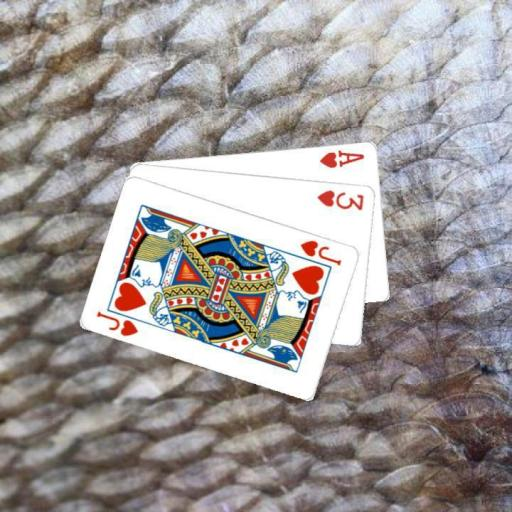card-corner: (298, 236, 344, 266), (94, 308, 140, 338), (314, 186, 366, 212), (316, 146, 366, 170)
